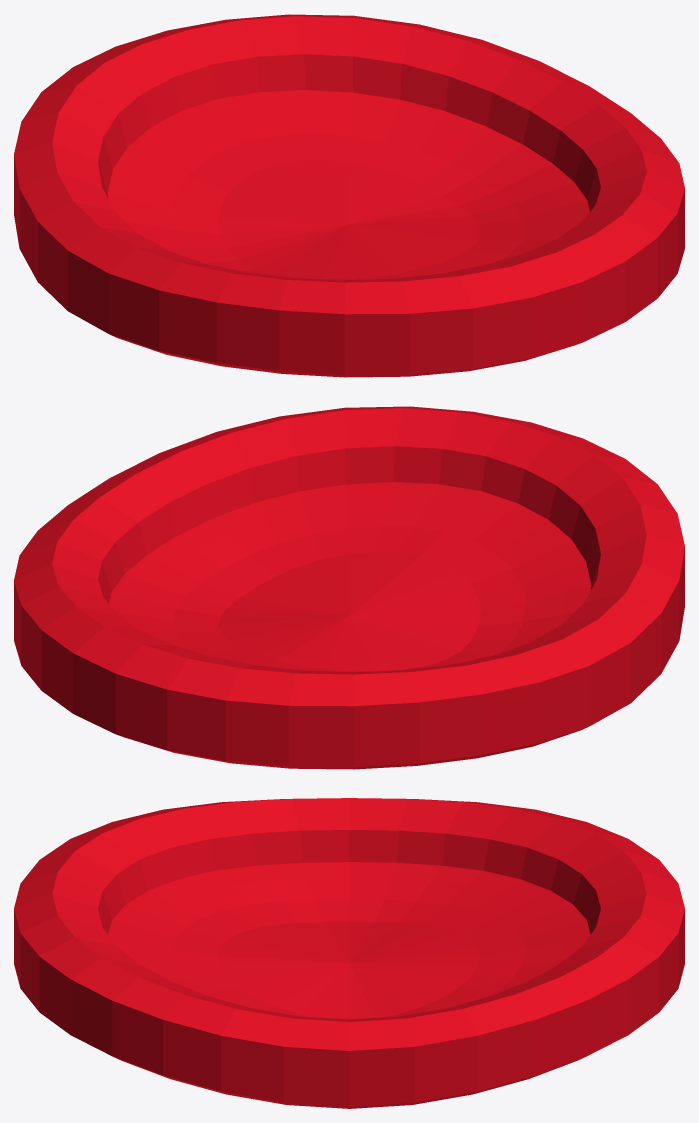
The model's file is BloodCell.fbx.
The picture shows the model from 3 angles, top to bottom: view 1: azimuth 30°, elevation 25°; view 2: azimuth 150°, elevation 25°; view 3: azimuth 270°, elevation 25°; orthographic projection. The views are drawn at different scales.
Parts seen in each view (by area): view 1: Cylinder; view 2: Cylinder; view 3: Cylinder.
Boxes of the visible parts, box(x1,y1,x2,y2) form: Cylinder: box(14, 14, 684, 377); Cylinder: box(14, 406, 684, 769); Cylinder: box(14, 798, 684, 1108).
Size of the model in its own units: 200 by 38.68 by 224.
